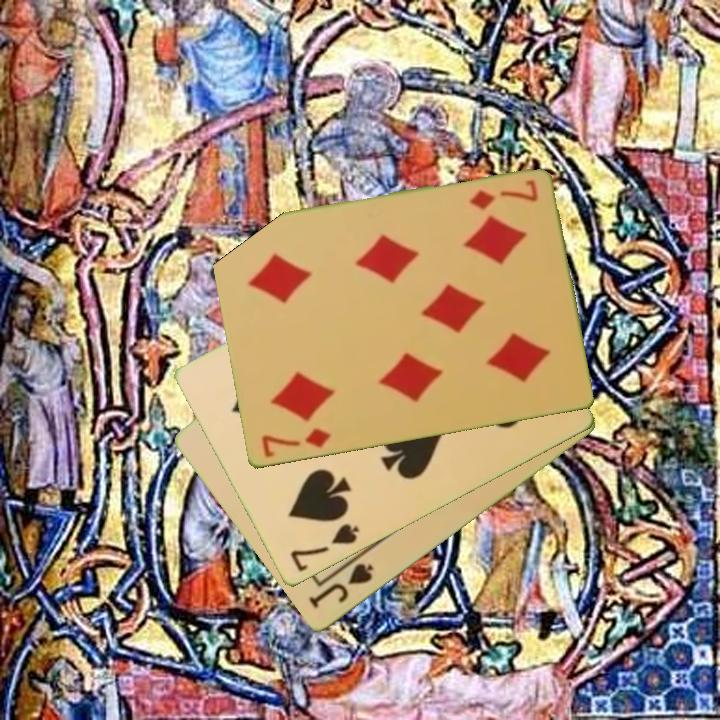7d: (465, 176, 541, 214), (257, 425, 334, 461)
7s: (286, 520, 362, 576)
Js: (305, 560, 377, 612)
